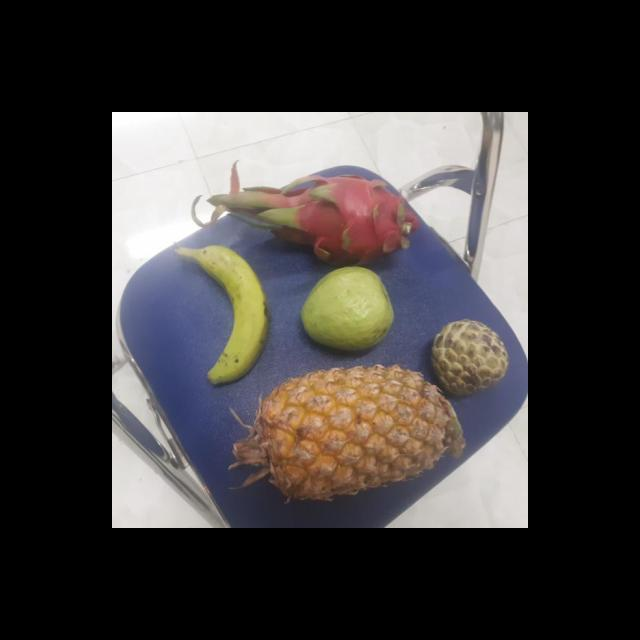Sakya fruit: (423, 320, 510, 397)
banana: (182, 242, 268, 382)
guava: (296, 268, 394, 350)
pineapple: (232, 368, 459, 495)
pitaya: (288, 172, 408, 266)
